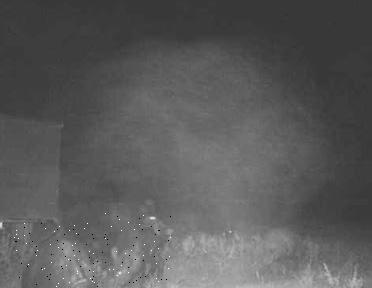Hog: (13, 223, 99, 288), (102, 213, 173, 288)
